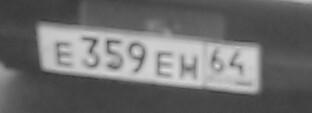license-plateSW: (35, 21, 263, 97)
